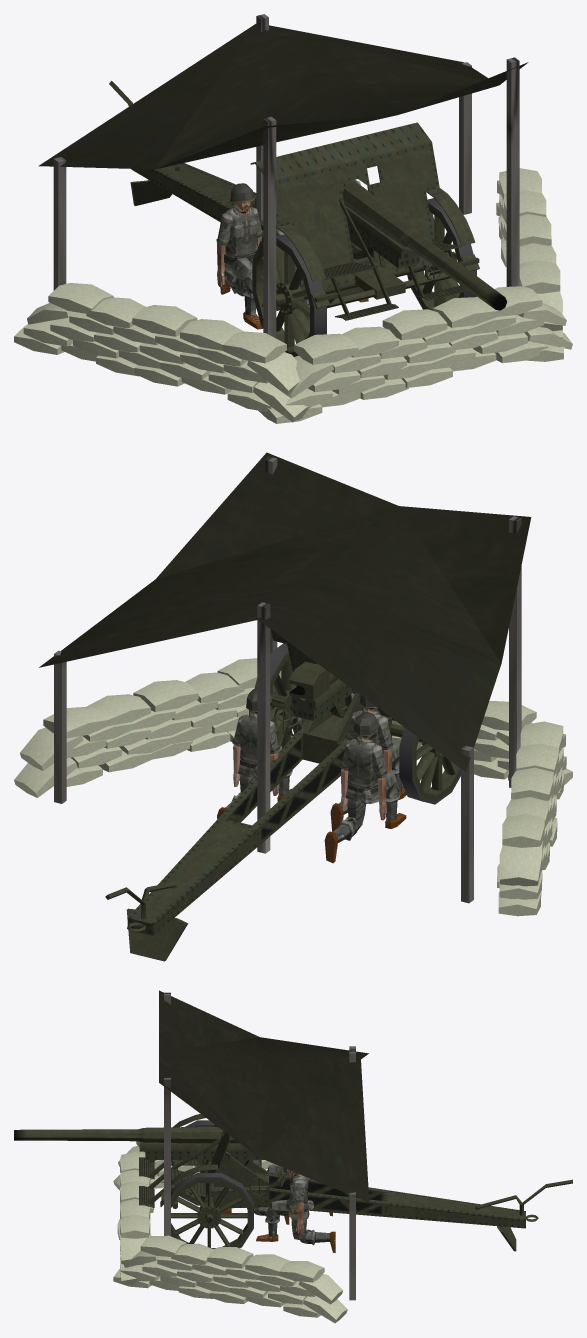
File: ITACannone105_32_Stationary.dae
3 views of the same model, one above another, from view 1: azimuth 30°, elevation 25°; view 2: azimuth 150°, elevation 25°; view 3: azimuth 270°, elevation 25° (orthographic). The views are drawn at different scales.
Parts seen in each view (by area): view 1: base, carriage, wheels, barrel, sleeve, torso3, head3; view 2: base, carriage, wheels, turret, torso3, sleeve, barrel, torso1; view 3: base, carriage, wheels, barrel, sleeve, turret, torso1.
Part boxes in pixels (box(x1,y1,x2,y2)): base: box(14, 14, 572, 423); carriage: box(109, 81, 479, 320); wheels: box(252, 198, 476, 356); barrel: box(342, 180, 506, 310); sleeve: box(344, 205, 419, 268); torso3: box(224, 205, 257, 271); head3: box(230, 183, 255, 211); base: box(14, 452, 572, 916); carriage: box(105, 629, 422, 961); wheels: box(249, 643, 460, 804); turret: box(273, 692, 375, 744); torso3: box(345, 737, 378, 803); sleeve: box(291, 679, 354, 720); barrel: box(289, 661, 337, 700); torso1: box(238, 712, 257, 778); base: box(113, 990, 369, 1323); carriage: box(139, 1114, 572, 1251); wheels: box(171, 1120, 253, 1249); barrel: box(14, 1126, 239, 1143); sleeve: box(139, 1141, 263, 1172); turret: box(213, 1151, 288, 1196); torso1: box(286, 1173, 313, 1219).
Size of the model in its own units: 51.33 by 66.47 by 27.27.
